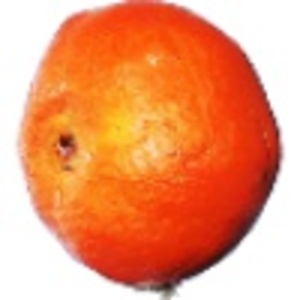tangerina: (15, 2, 286, 300)
